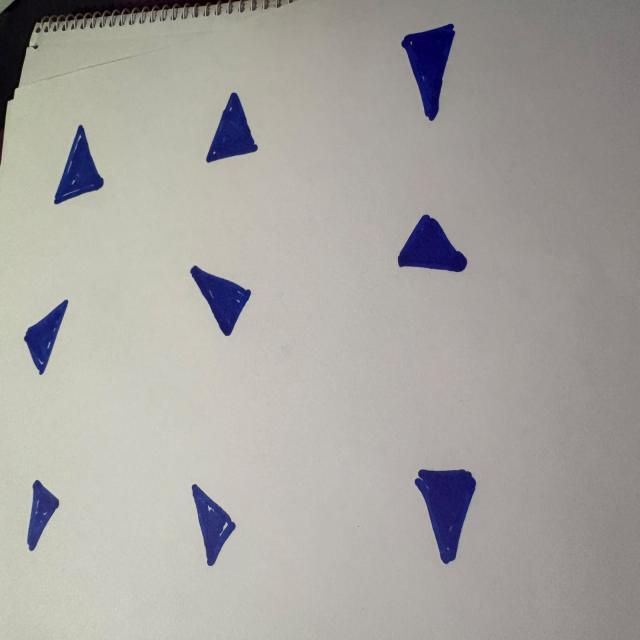Triangle: (415, 469, 476, 563), (402, 24, 454, 121), (190, 266, 251, 335), (398, 214, 467, 272), (54, 125, 103, 204), (206, 93, 257, 162), (192, 485, 235, 565), (24, 301, 68, 374), (27, 481, 59, 550)
